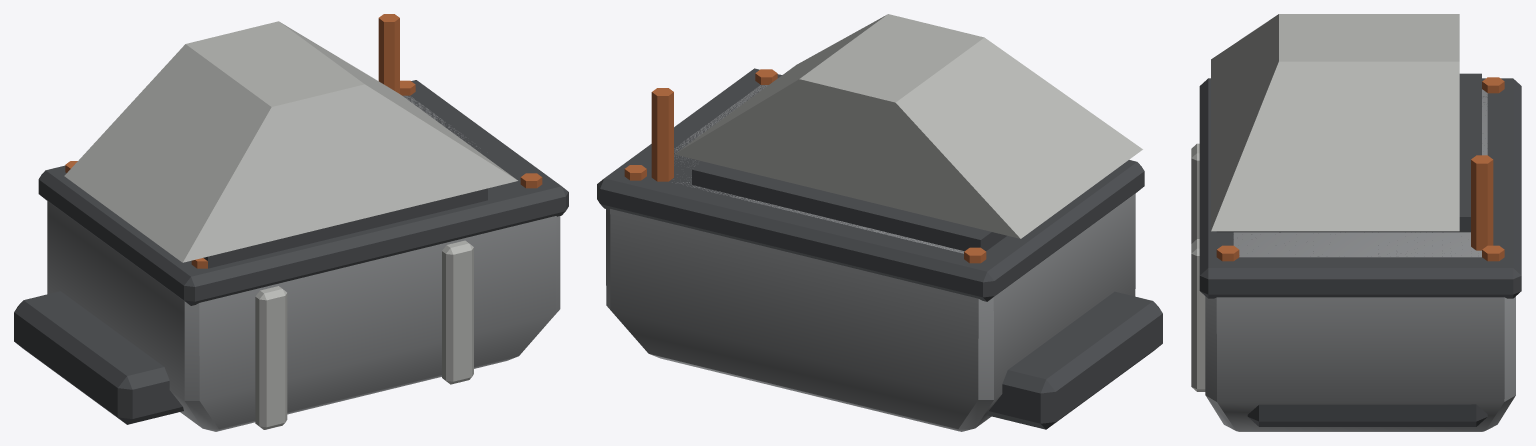
The model's file is small-lamp.glb.
The picture shows the model from 3 angles, left to right: view 1: azimuth 30°, elevation 25°; view 2: azimuth 150°, elevation 25°; view 3: azimuth 270°, elevation 25°; orthographic projection. The views are drawn at different scales.
Visible parts, largest first — view 1: body; view 2: body; view 3: body.
Boxes of the visible parts, box(x1,y1,x2,y2) form: body: box(14, 14, 568, 431); body: box(597, 14, 1162, 431); body: box(1191, 14, 1521, 431).
Size of the model in its own units: 0.915 by 0.6 by 0.585.
